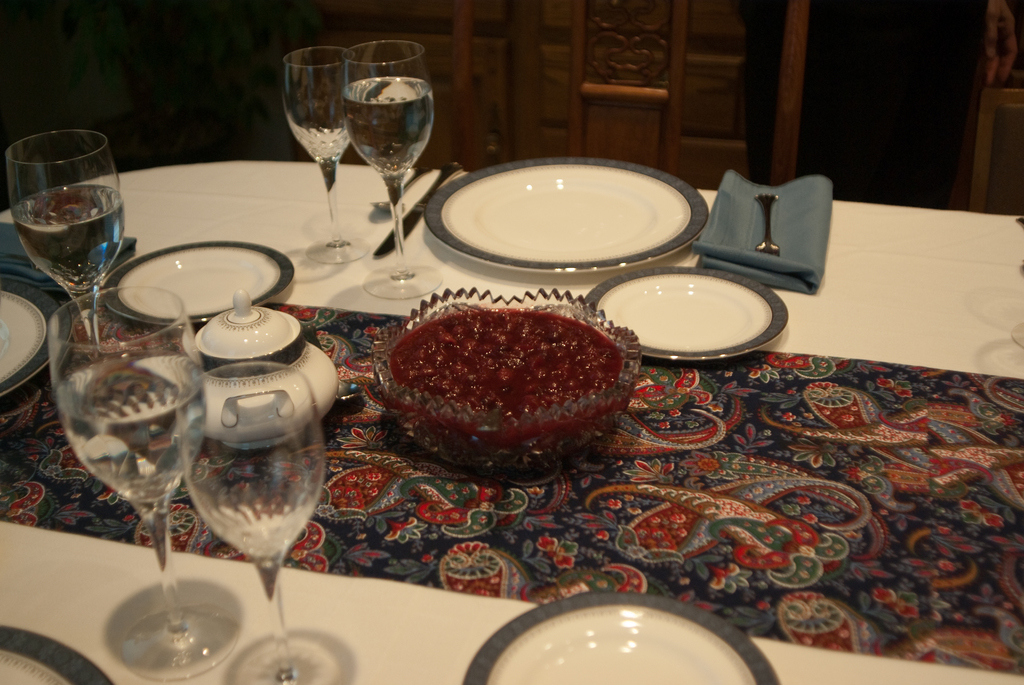plate: (407, 158, 701, 250)
